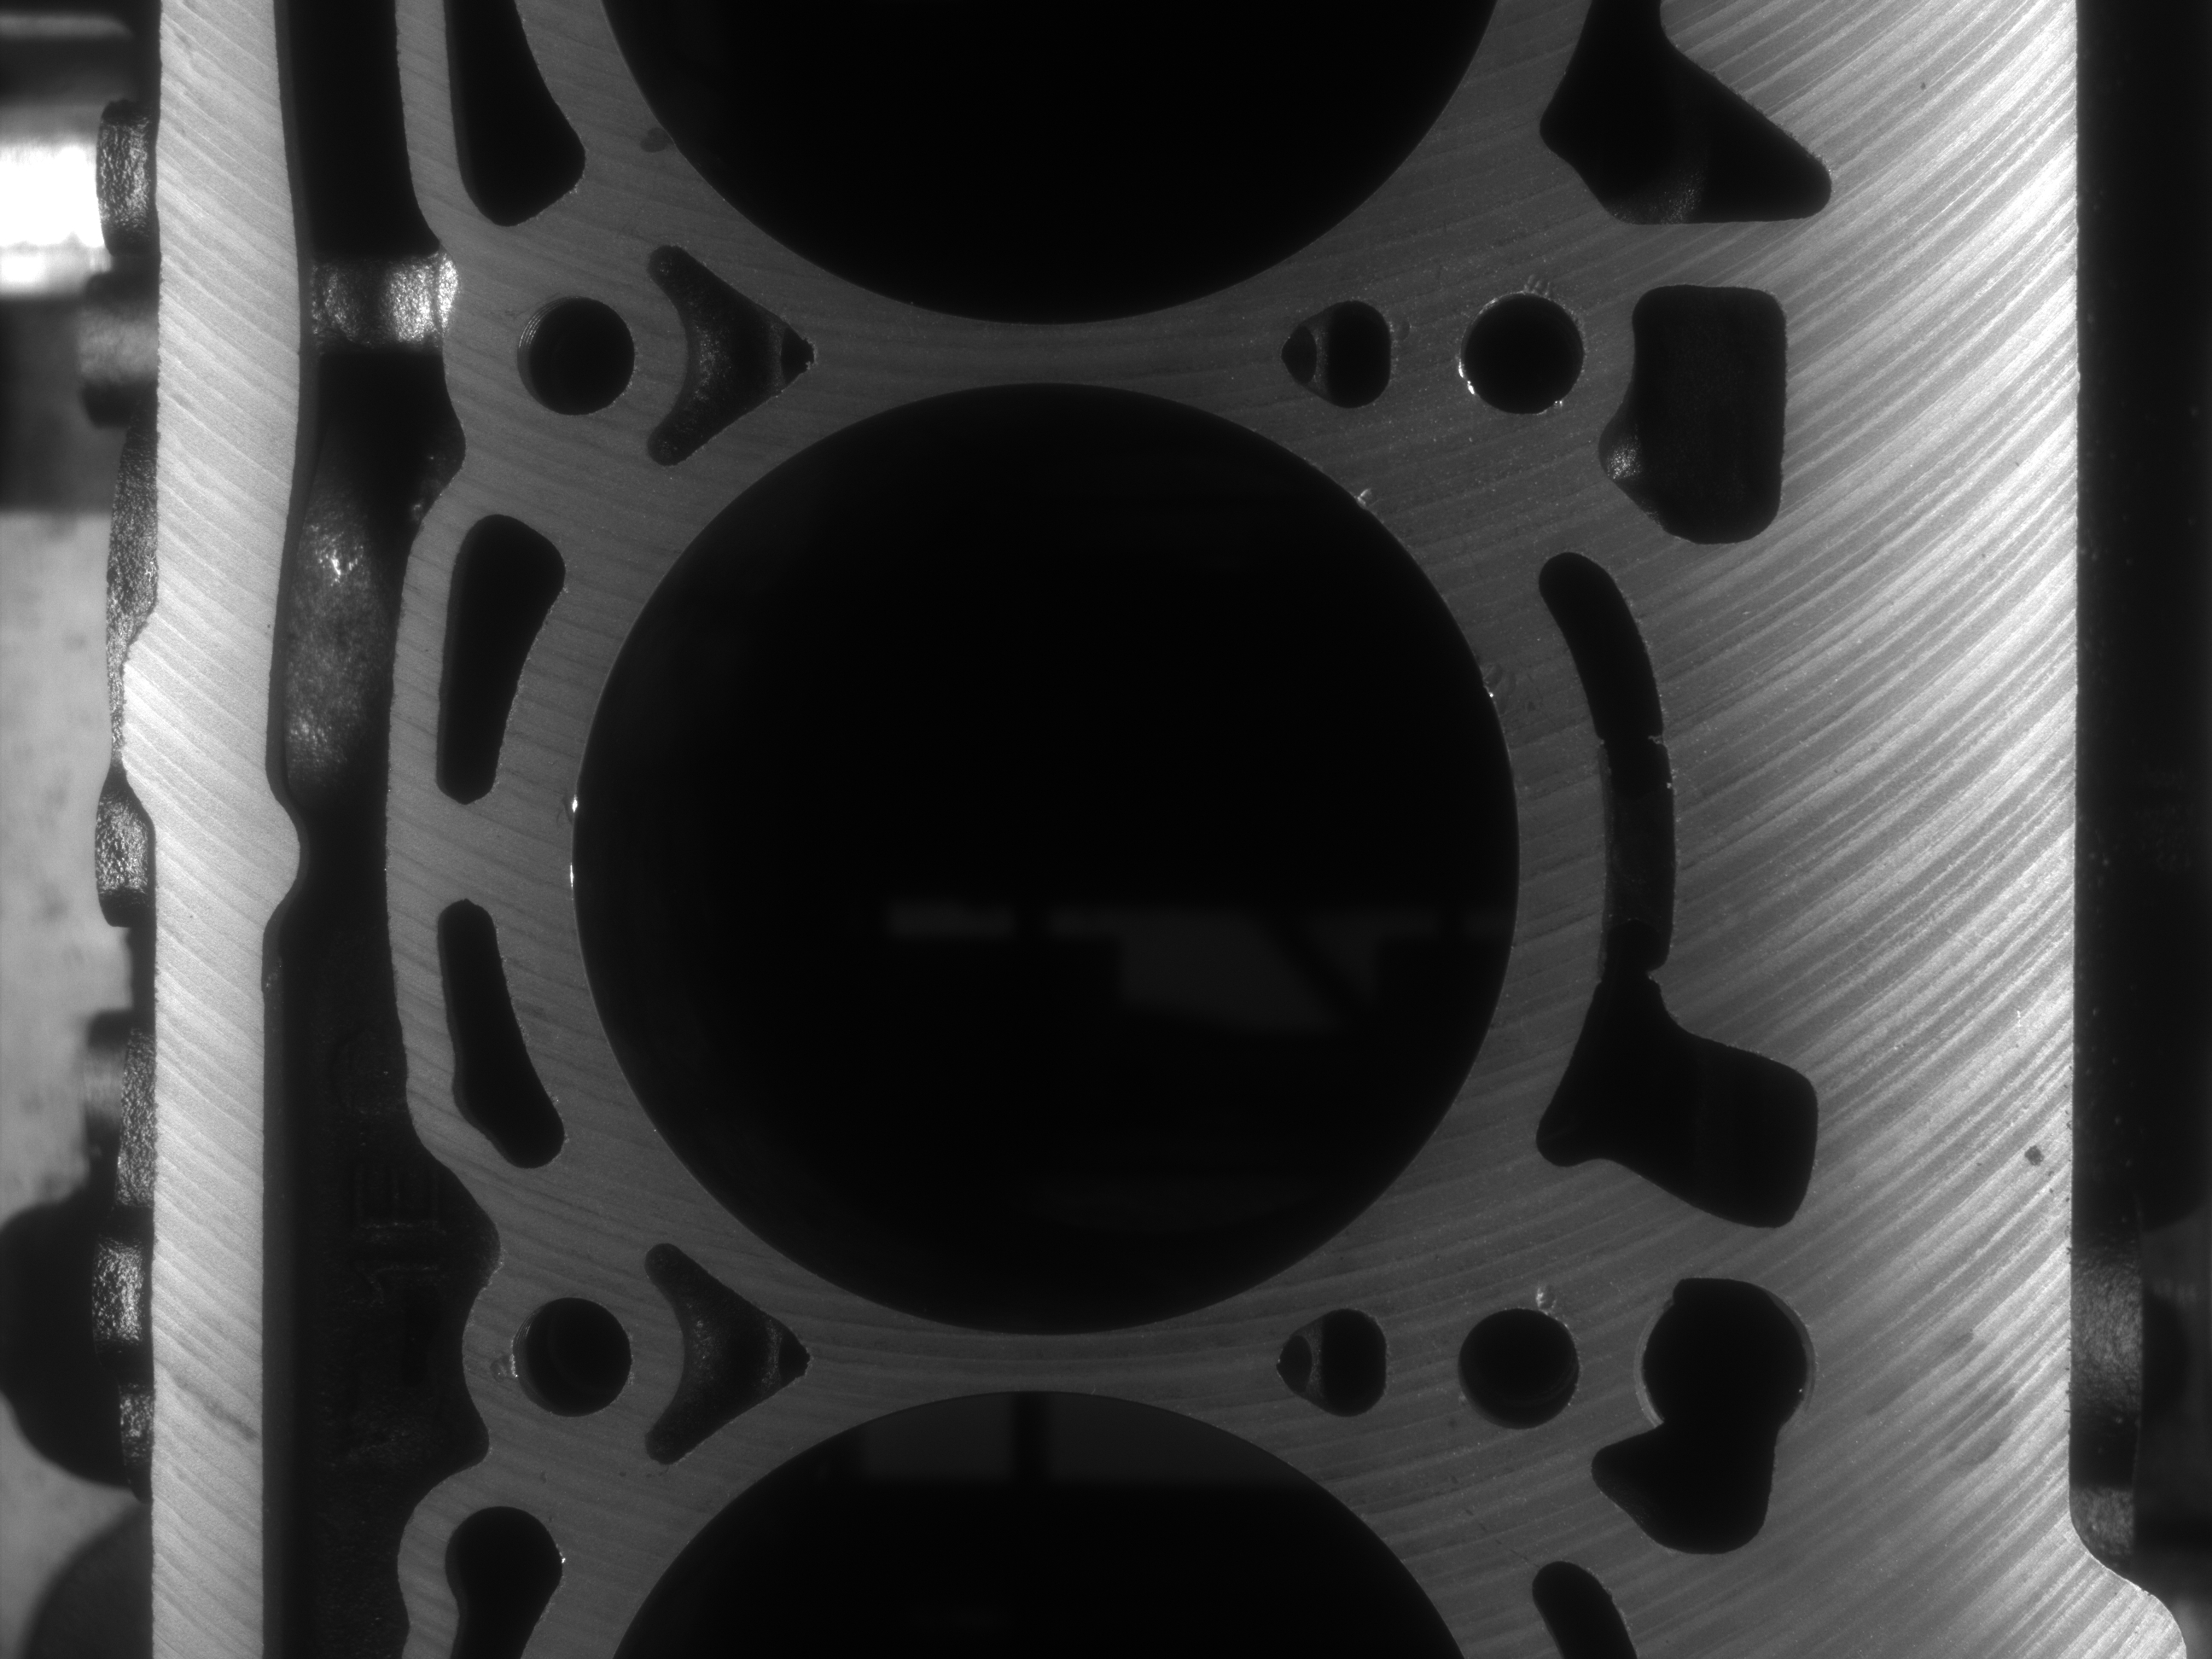shrinkage: (1524, 1260, 1564, 1319), (477, 1347, 526, 1391), (1352, 465, 1385, 521), (1486, 655, 1519, 702)
